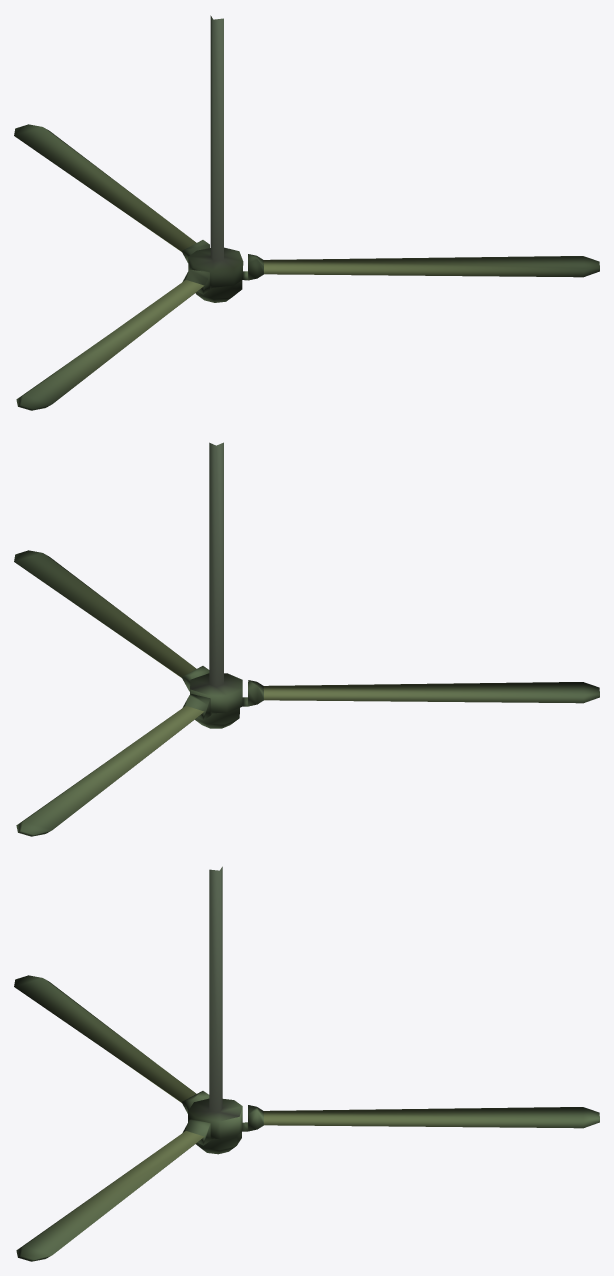
File: dtic.hrc.gltf
The picture shows the model from 3 angles, top to bottom: view 1: azimuth 30°, elevation 25°; view 2: azimuth 150°, elevation 25°; view 3: azimuth 270°, elevation 25°; orthographic projection.
Visible parts, largest first — view 1: dticBone0_null; view 2: dticBone0_null; view 3: dticBone0_null.
Boxes of the visible parts, x1,y1,x2,y2 form: dticBone0_null: (14,15,599,410); dticBone0_null: (14,442,599,836); dticBone0_null: (14,866,599,1261).
Size of the model in its own units: 38.09 by 17.47 by 33.14.
